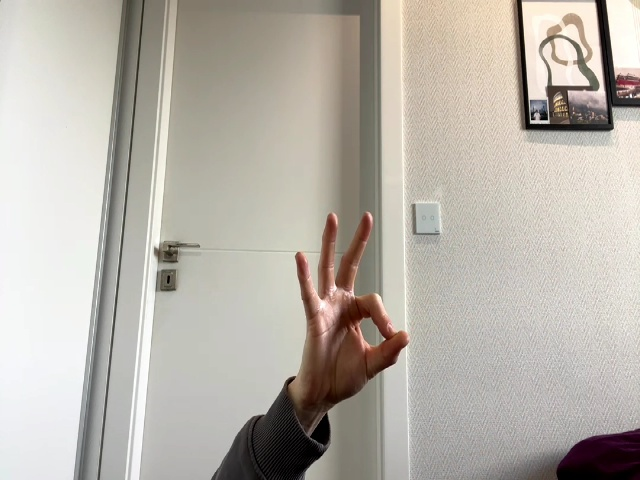O: (295, 212, 410, 396)
